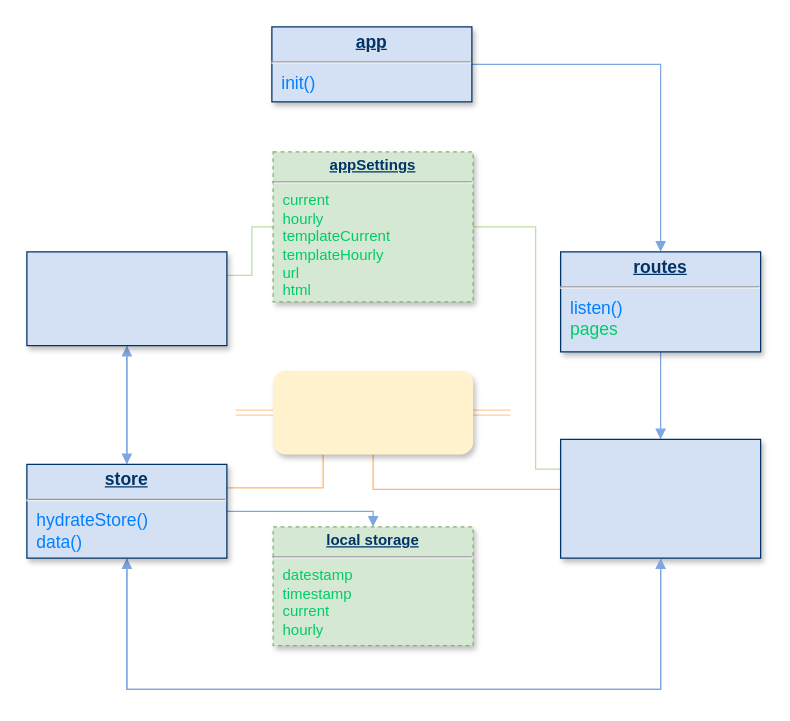
Image size: 790x721. Some labels were removed from this diagram. Each missing label, with the centre of its shape:
libraries aja() handlebars(): the point at 374,413
request current() hourly(): the point at 127,300
section toggle() renderInitial() renderFiltered(): the point at 661,500
